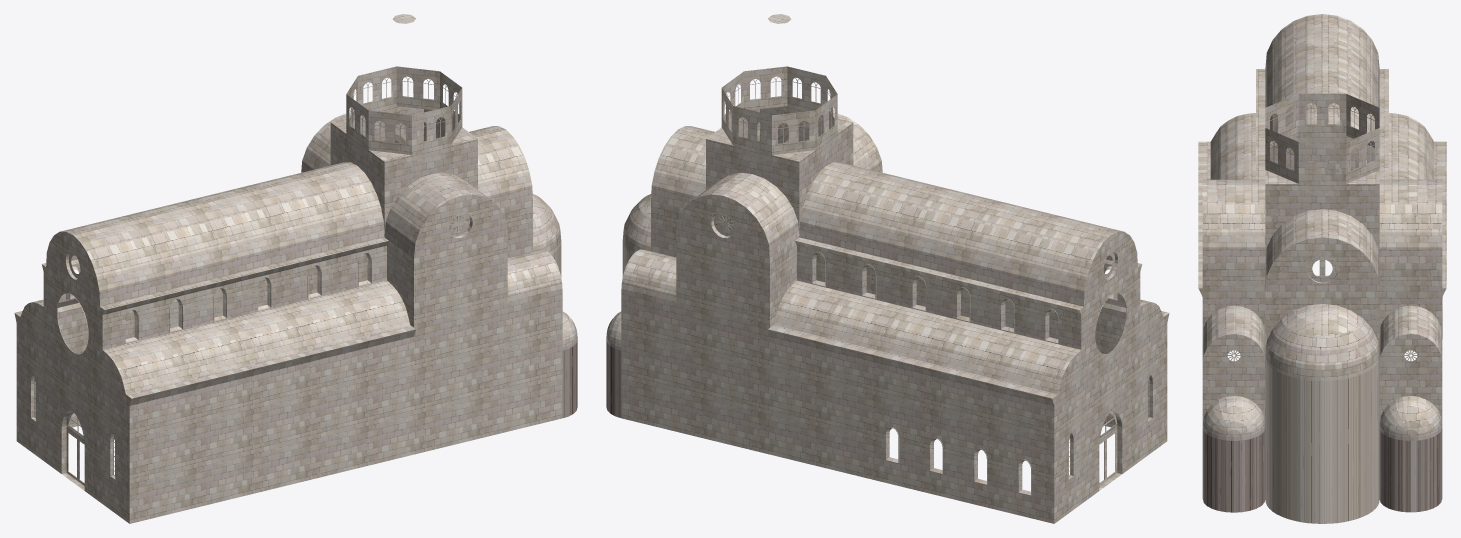
Rendered from zid_vani.obj.
3 views of the same model, side by side, from view 1: azimuth 30°, elevation 25°; view 2: azimuth 150°, elevation 25°; view 3: azimuth 270°, elevation 25° (orthographic). The views are drawn at different scales.
Size of the model in its own units: 40.28 by 30.61 by 16.99.
